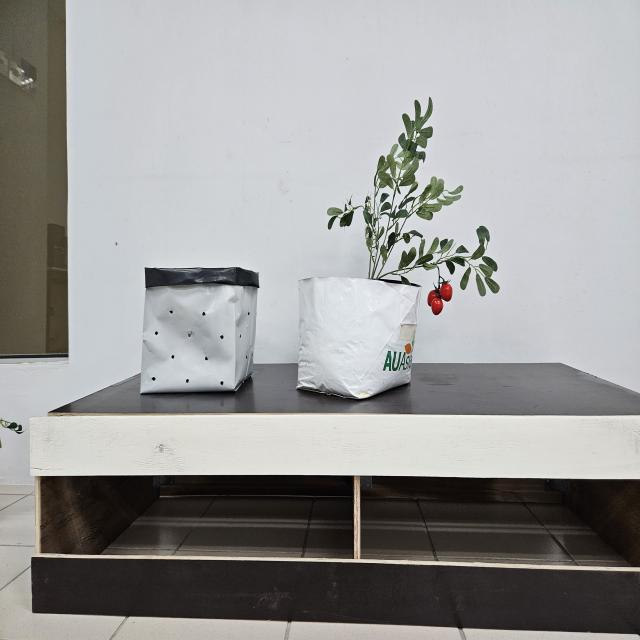Soilbag: (138, 267, 260, 397), (296, 278, 423, 402)
Tomato: (426, 281, 456, 318)
plant: (326, 98, 500, 316)
